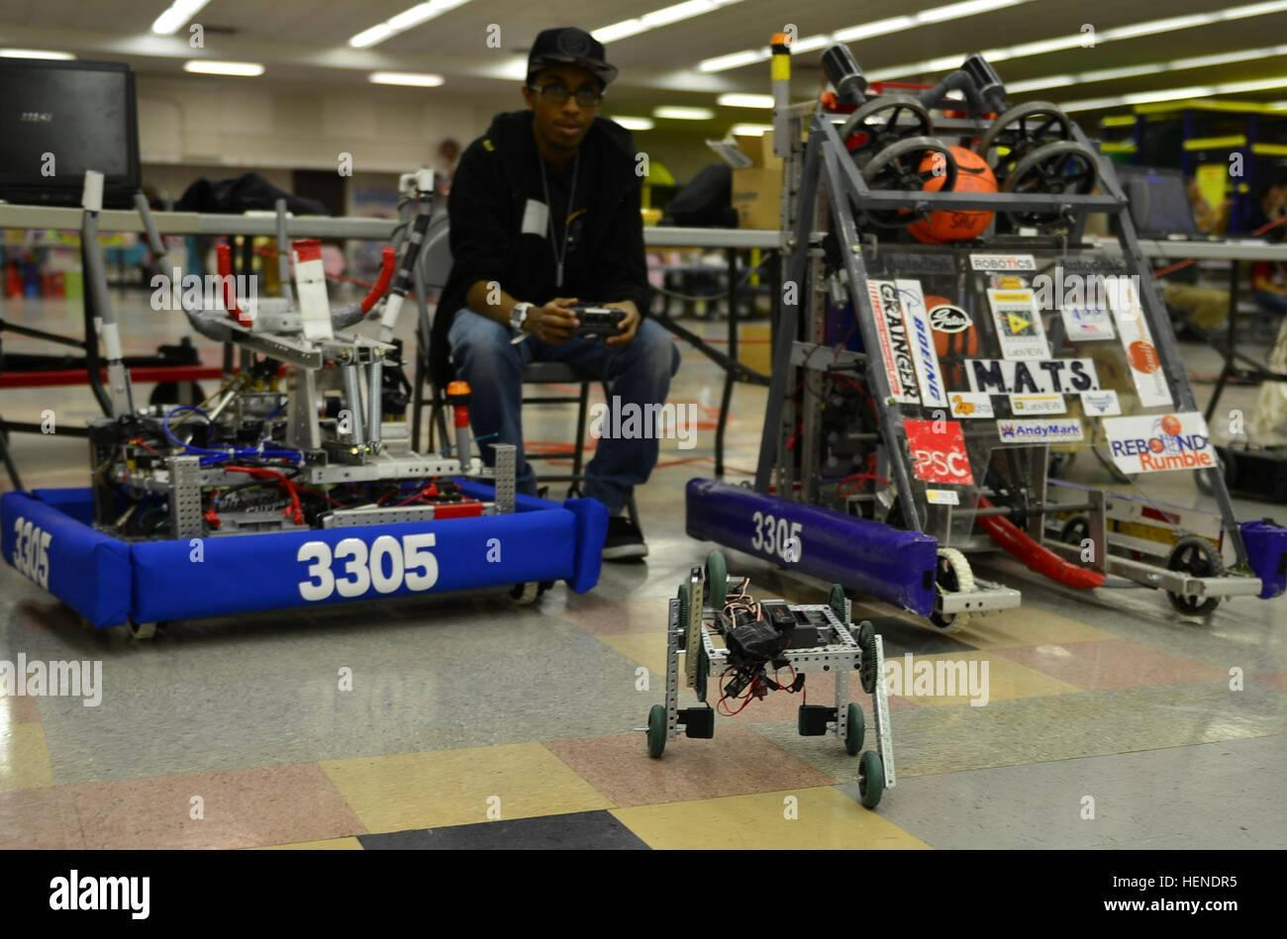robot: (677, 11, 1287, 640), (0, 225, 614, 636)
